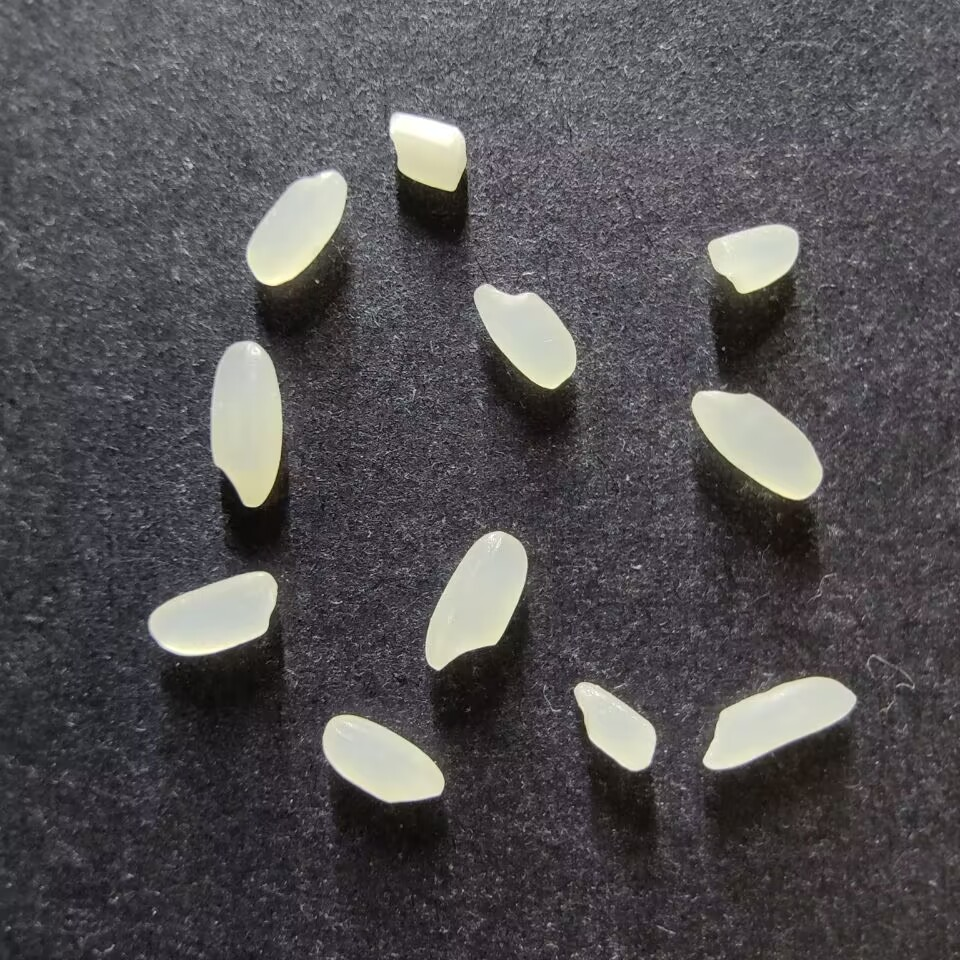broken: (572, 680, 659, 773), (705, 222, 802, 295), (388, 111, 468, 193)
rice: (689, 389, 825, 502), (700, 675, 858, 771), (423, 529, 529, 672), (208, 339, 284, 509), (245, 168, 348, 287), (147, 568, 277, 658), (472, 281, 578, 391), (321, 713, 446, 805)
